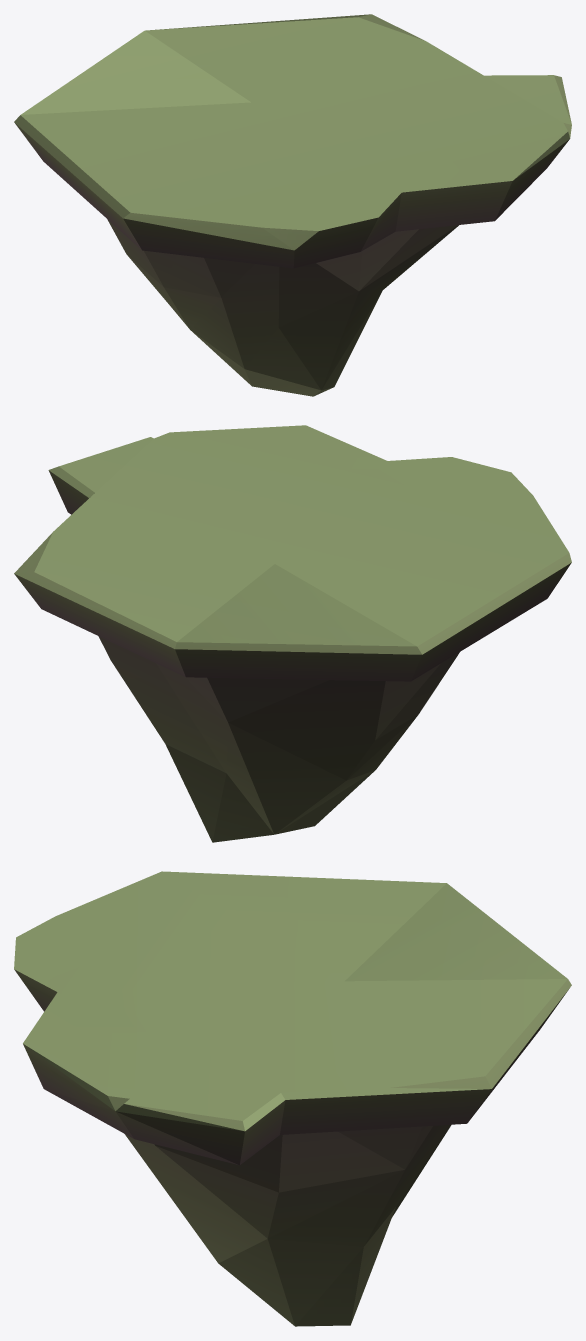
The model's file is Floating_Island_4_Bioma2.fbx.
3 views of the same model, one above another, from view 1: azimuth 30°, elevation 25°; view 2: azimuth 150°, elevation 25°; view 3: azimuth 270°, elevation 25° (orthographic). The views are drawn at different scales.
Visible parts, largest first — view 1: floe.002, floe-deep.002; view 2: floe.002, floe-deep.002; view 3: floe.002, floe-deep.002.
Part boxes in pixels (x1,y1,x2,y2): floe.002: (14, 14, 571, 268); floe-deep.002: (107, 219, 458, 396); floe.002: (14, 425, 571, 681); floe-deep.002: (98, 636, 459, 842); floe.002: (14, 871, 571, 1165); floe-deep.002: (125, 1124, 451, 1326).
Bounding box in the file's own units: 698 × 402 × 644.
